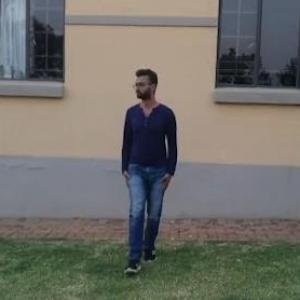follow: (112, 56, 184, 283)
